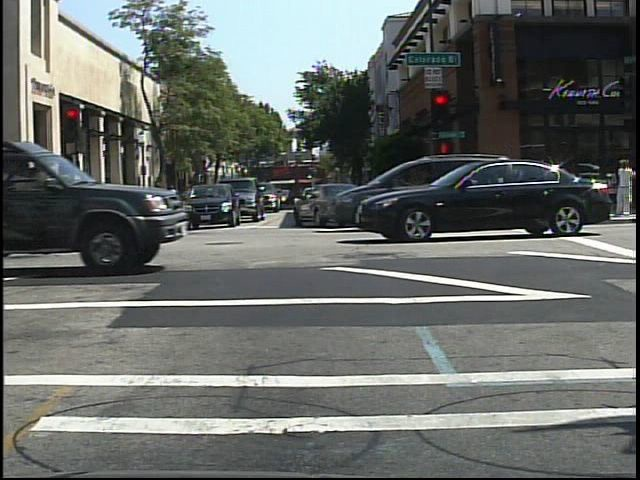person: (614, 152, 637, 219), (163, 180, 181, 220)
